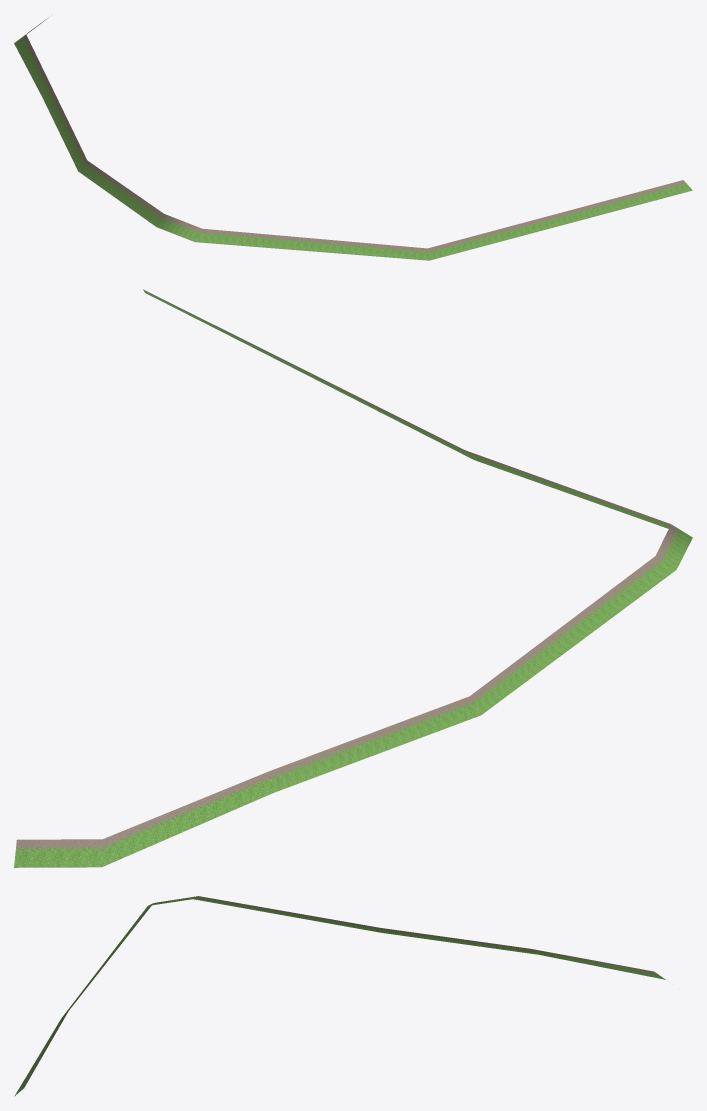
Rendered from kd_stage_1363c5_6_20.glb.
3 views of the same model, one above another, from view 1: azimuth 30°, elevation 25°; view 2: azimuth 150°, elevation 25°; view 3: azimuth 270°, elevation 25° (orthographic). The views are drawn at different scales.
Visible parts, largest first — view 1: kd_stage_1363c5_6_20; view 2: kd_stage_1363c5_6_20; view 3: kd_stage_1363c5_6_20.
Part boxes in pixels (x1=…): kd_stage_1363c5_6_20: x1=14, y1=17, x2=692, y2=260; kd_stage_1363c5_6_20: x1=14, y1=289, x2=692, y2=867; kd_stage_1363c5_6_20: x1=14, y1=896, x2=665, y2=1096.
Bounding box in the file's own units: 192 × 16.86 × 278.
Materials: 1 (1 with a texture image).
